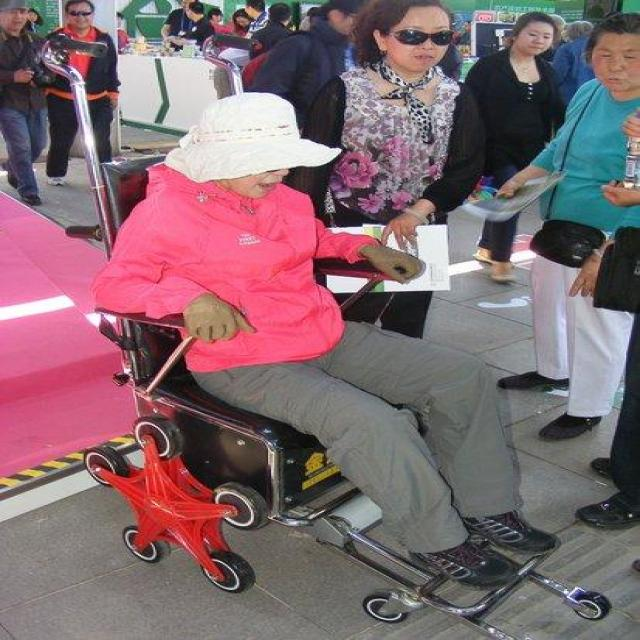wheelchairs: (46, 196, 611, 635)
